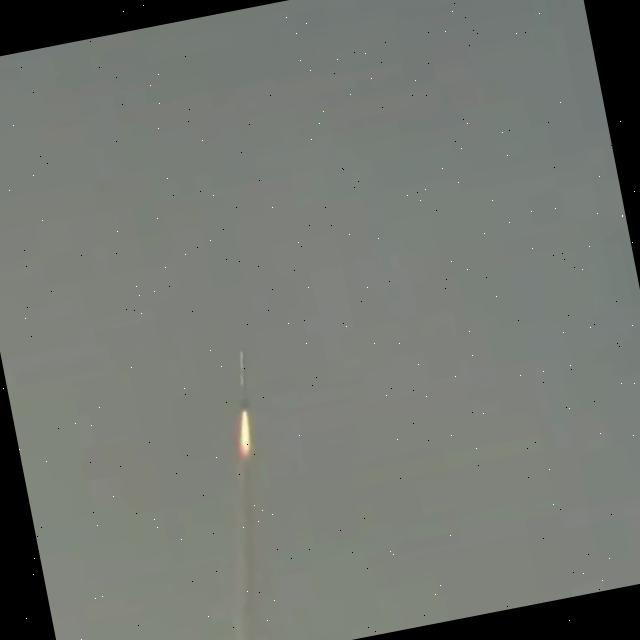smoke_trail_with_rocket: (232, 352, 258, 640)
